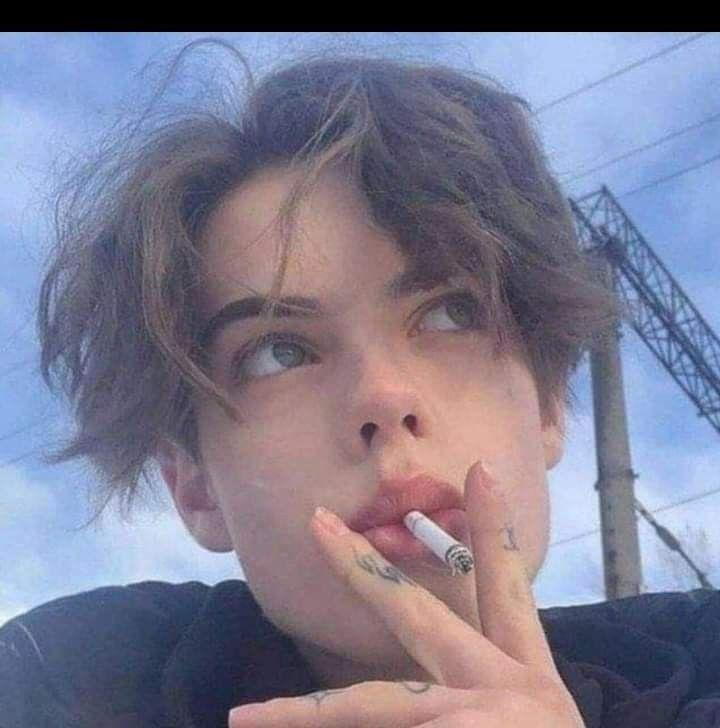cigarette: (403, 509, 475, 576)
